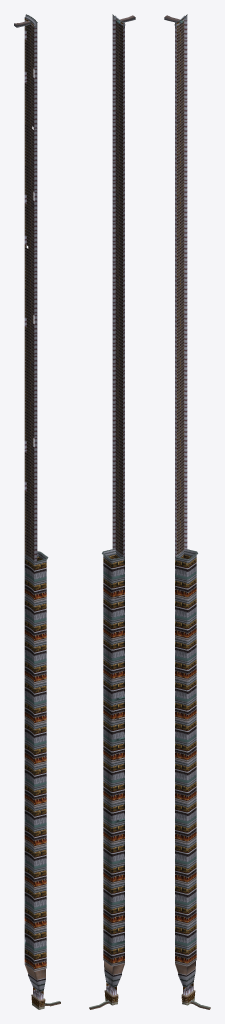
Rendered from speed highway 2.obj.
The picture shows the model from 3 angles, left to right: view 1: azimuth 30°, elevation 25°; view 2: azimuth 210°, elevation 25°; view 3: azimuth 330°, elevation 25°; orthographic projection.
Visible parts, largest first — view 1: object_0218C8A0, object_021926B4, object_021926E8, object_02192750, object_021928BC, object_02192958, object_0219271C, object_0218DCD0, object_02192784, object_02192924, object_021928F0, object_02192854 (+35 smaller); view 2: object_0218C8A0, object_02192854, object_02192A28, object_021929F4, object_021927B8, object_0219298C, object_02192888, object_021928BC, object_02192958, object_0219271C, object_021926B4, object_02192784 (+35 smaller); view 3: object_0218C8A0, object_02192854, object_02192A28, object_021927B8, object_021929C0, object_02192888, object_021928BC, object_02192958, object_021929F4, object_0219271C, object_021926B4, object_0218DCD0 (+35 smaller).
Boxes of the visible parts, bbox=[...] form: object_0218C8A0: bbox=[24, 552, 46, 581]; object_021926B4: bbox=[24, 760, 46, 787]; object_021926E8: bbox=[24, 801, 46, 828]; object_02192750: bbox=[24, 883, 46, 910]; object_021928BC: bbox=[24, 657, 46, 684]; object_02192958: bbox=[24, 780, 46, 807]; object_0219271C: bbox=[24, 842, 46, 869]; object_0218DCD0: bbox=[24, 575, 46, 602]; object_02192784: bbox=[24, 924, 46, 951]; object_02192924: bbox=[24, 739, 46, 766]; object_021928F0: bbox=[24, 698, 46, 725]; object_02192854: bbox=[24, 719, 46, 746]; object_0218C8A0: bbox=[103, 549, 124, 579]; object_02192854: bbox=[103, 716, 124, 742]; object_02192A28: bbox=[103, 940, 124, 966]; object_021929F4: bbox=[103, 899, 124, 925]; object_021927B8: bbox=[103, 594, 124, 620]; object_0219298C: bbox=[103, 818, 124, 843]; object_02192888: bbox=[103, 614, 124, 640]; object_021928BC: bbox=[103, 655, 124, 681]; object_02192958: bbox=[103, 777, 124, 803]; object_0219271C: bbox=[103, 838, 124, 864]; object_021926B4: bbox=[103, 757, 124, 782]; object_02192784: bbox=[103, 920, 124, 945]; object_0218C8A0: bbox=[175, 549, 196, 579]; object_02192854: bbox=[175, 716, 196, 742]; object_02192A28: bbox=[175, 940, 196, 966]; object_021927B8: bbox=[175, 594, 196, 620]; object_021929C0: bbox=[175, 859, 196, 884]; object_02192888: bbox=[175, 614, 196, 640]; object_021928BC: bbox=[175, 655, 196, 681]; object_02192958: bbox=[175, 777, 196, 803]; object_021929F4: bbox=[175, 899, 196, 925]; object_0219271C: bbox=[175, 838, 196, 864]; object_021926B4: bbox=[175, 757, 196, 782]; object_0218DCD0: bbox=[175, 574, 196, 599].
Size of the model in its own units: 45.58 by 967 by 20.5.
